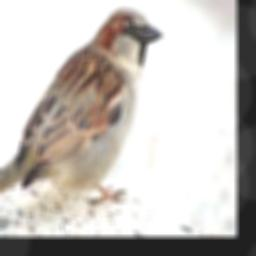Sparrow: (0, 9, 164, 220)
